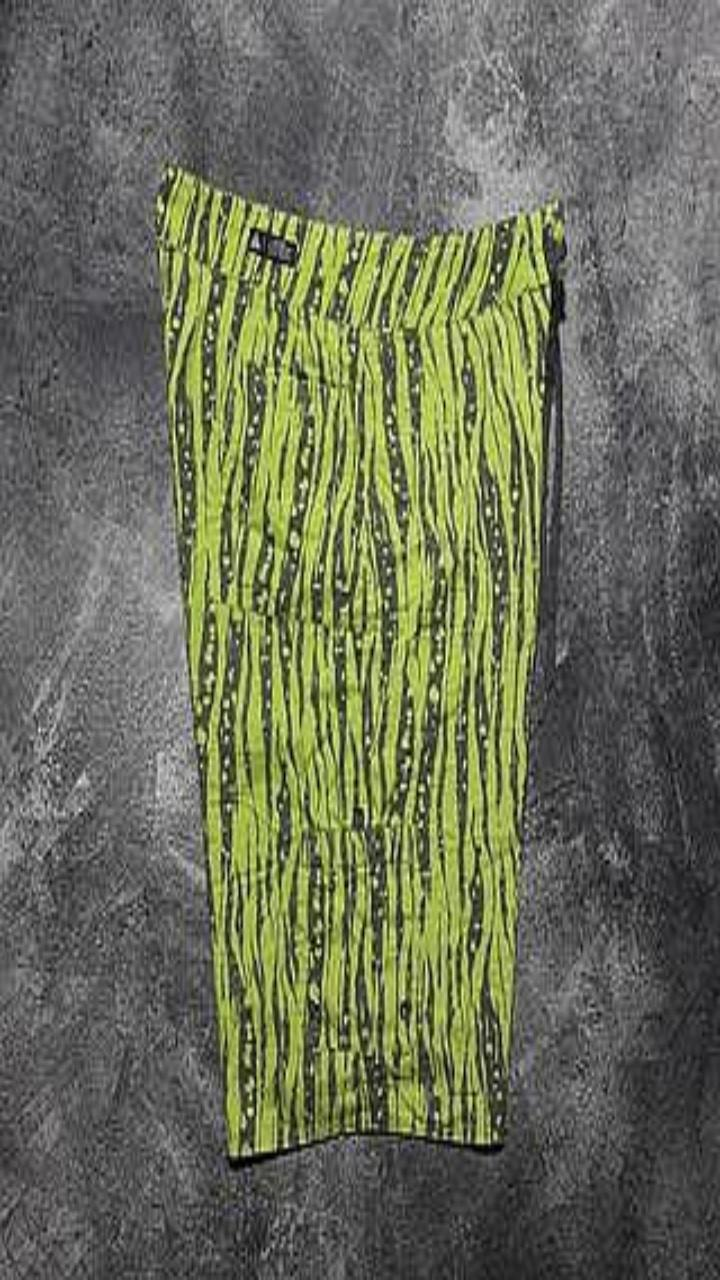Shorts: (155, 165, 565, 1156)
